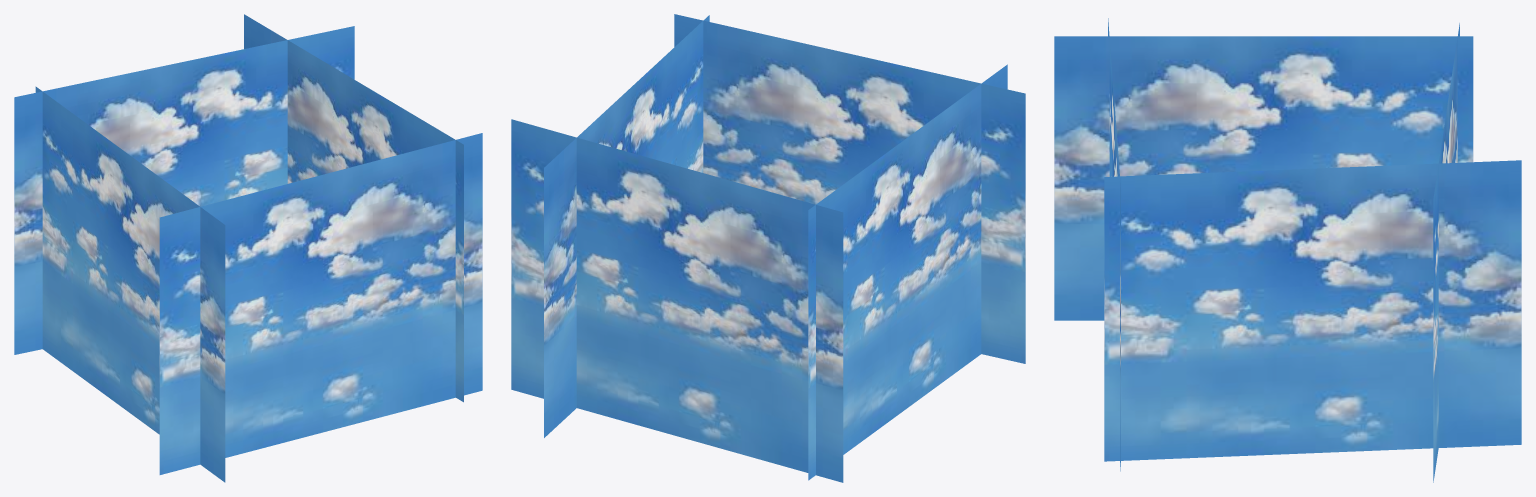
File: mapita.glb
The picture shows the model from 3 angles, left to right: view 1: azimuth 30°, elevation 25°; view 2: azimuth 150°, elevation 25°; view 3: azimuth 270°, elevation 25°; orthographic projection. The views are drawn at different scales.
Visible parts, largest first — view 1: images.003, images, images.001, images.002; view 2: images.001, images.003, images, images.002; view 3: images.002, images, images.001, images.003.
Boxes of the visible parts, box(x1,y1,x2,y2) form: images.003: box(159, 133, 482, 474); images: box(35, 86, 225, 482); images.001: box(14, 26, 354, 354); images.002: box(244, 14, 463, 402); images.001: box(511, 119, 843, 482); images.003: box(674, 14, 1025, 363); images: box(808, 64, 1007, 480); images.002: box(544, 15, 709, 437); images.002: box(1104, 160, 1521, 461); images: box(1054, 36, 1473, 320); images.001: box(1433, 23, 1459, 482); images.003: box(1108, 18, 1120, 471).
Size of the model in its own units: 3032 by 2181 by 3248.
Materials: 6 (1 with a texture image).
